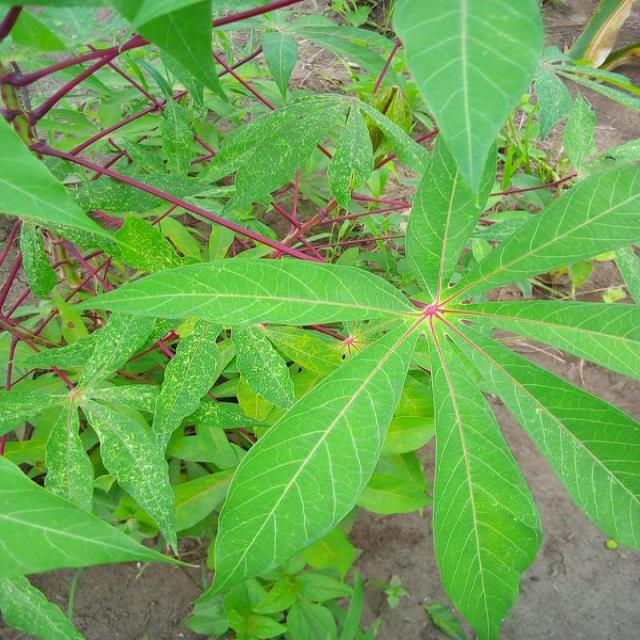cassava leaf: (1, 1, 638, 637), (190, 318, 420, 613), (427, 324, 543, 638), (74, 254, 420, 327)
